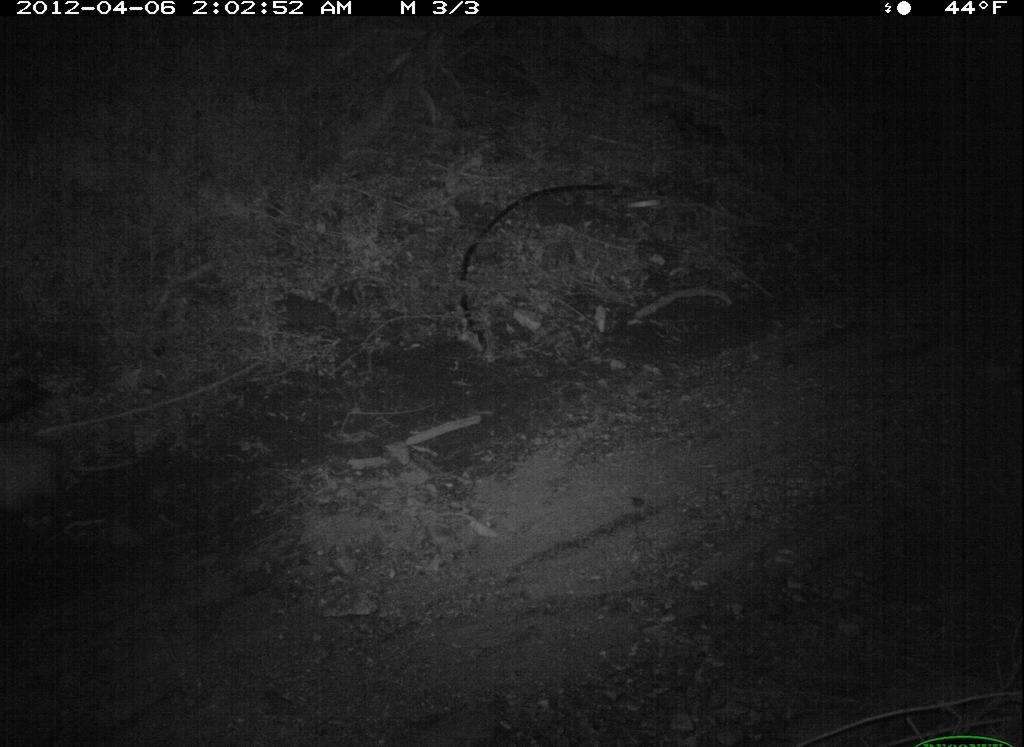opossum: (2, 432, 144, 527)
